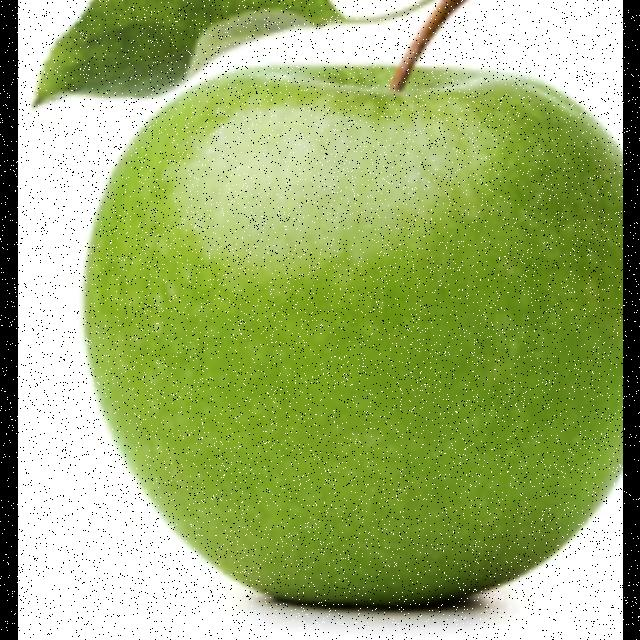Apel Segar: (82, 59, 622, 602)
